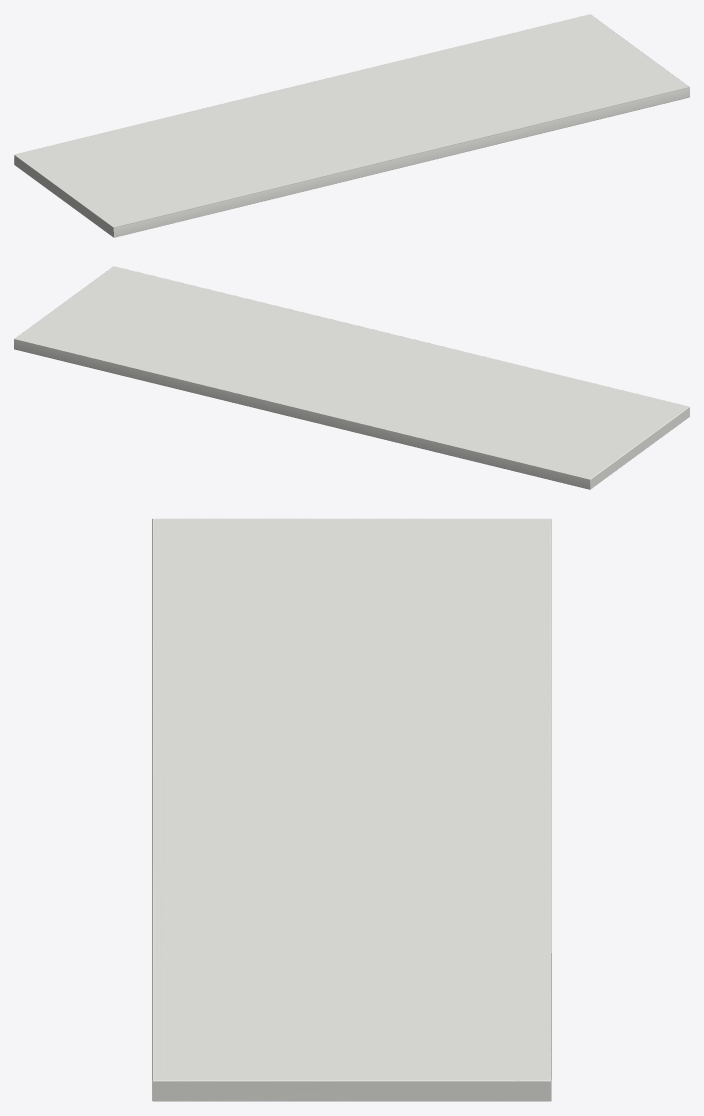
The model's file is LAGKAPTEN_00460836.glb.
3 views of the same model, one above another, from view 1: azimuth 30°, elevation 25°; view 2: azimuth 150°, elevation 25°; view 3: azimuth 270°, elevation 25° (orthographic). The views are drawn at different scales.
Parts seen in each view (by area): view 1: model; view 2: model; view 3: model.
Boxes of the visible parts, x1,y1,x2,y2 form: model: [14, 14, 689, 237]; model: [14, 266, 689, 489]; model: [152, 518, 551, 1101].
Size of the model in its own units: 2 by 0.0353 by 0.6.
Materials: 1 (1 with a texture image).
